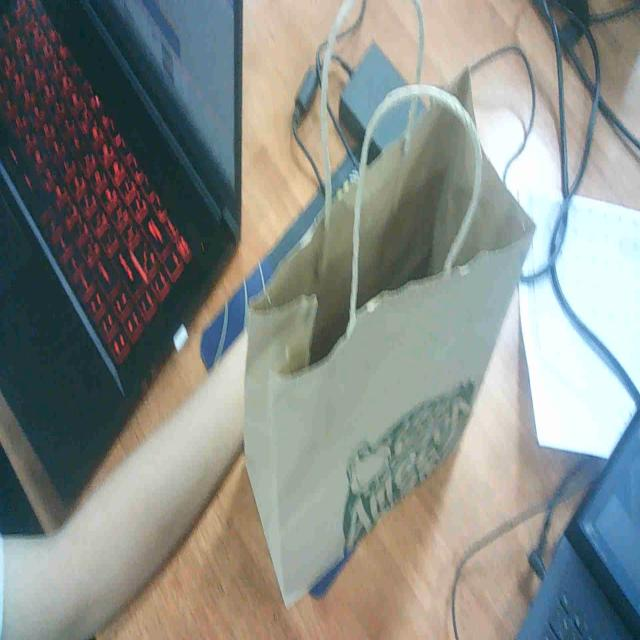bag: (225, 36, 562, 640)
